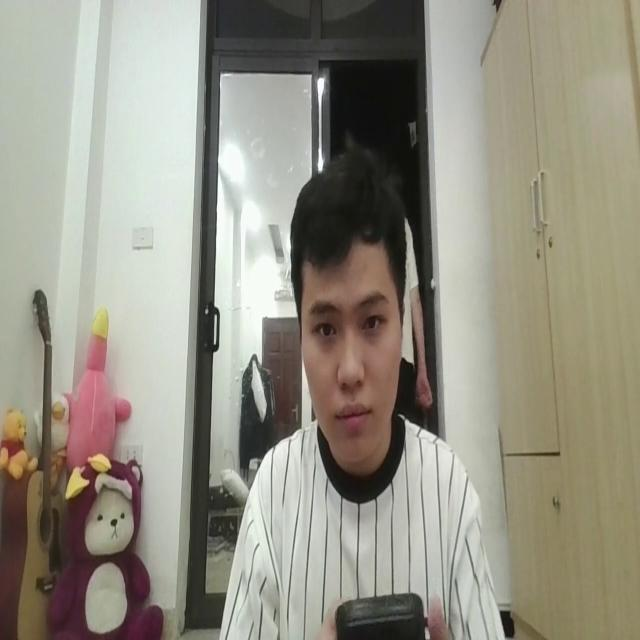phone: (334, 585, 424, 639)
student: (221, 139, 502, 640)
